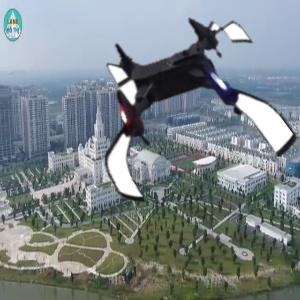drone: (78, 9, 287, 218)
